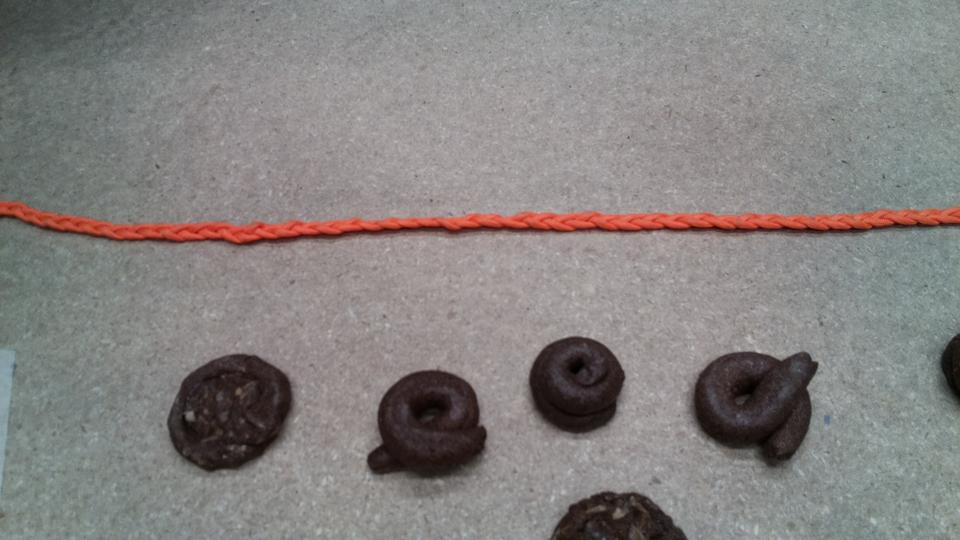poop: (165, 349, 303, 472), (692, 348, 825, 465), (365, 368, 494, 482), (523, 334, 632, 437), (549, 487, 702, 540)
rope: (1, 188, 960, 262)
